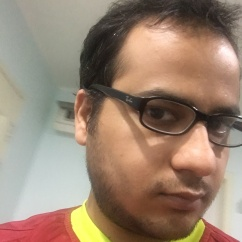glasses: (103, 85, 242, 144)
